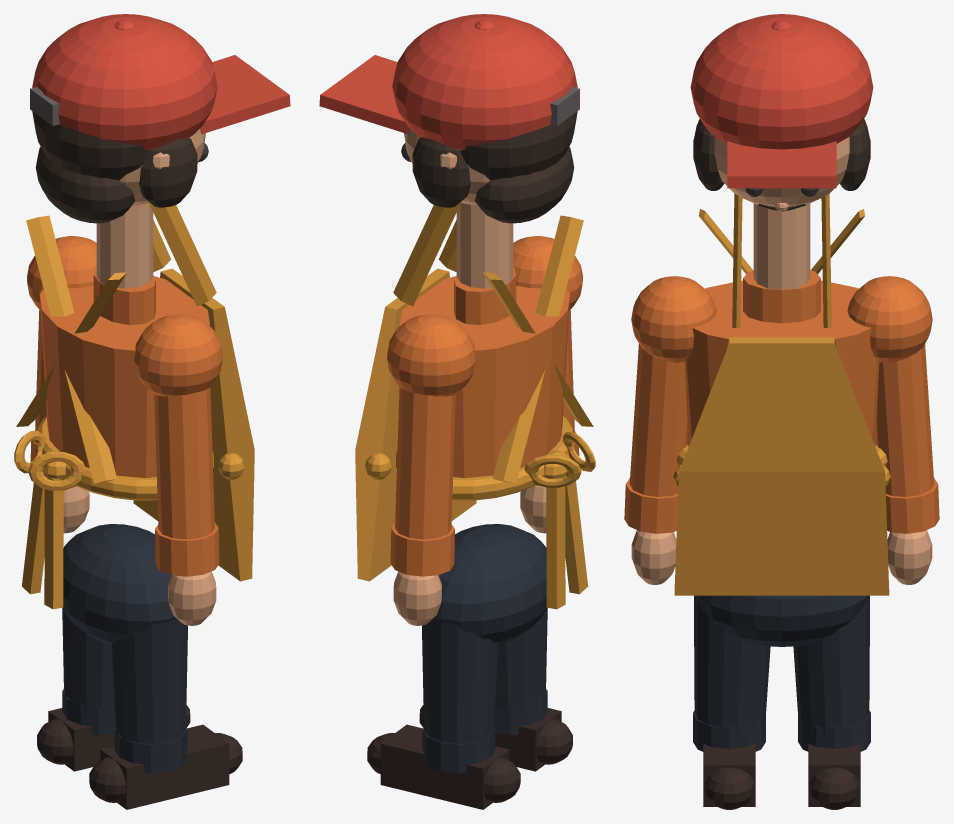
The model's file is 45-hot-dog-vendor.glb.
3 views of the same model, side by side, from view 1: azimuth 30°, elevation 25°; view 2: azimuth 150°, elevation 25°; view 3: azimuth 270°, elevation 25° (orthographic).
Visible parts, largest first — view 1: CapCrown, Torso, Hips, ApronBib, LegR, ArmR, ShoulderR, ShoeR, BackStrapA, HairBack, Neck, HairNape (+25 smaller); view 2: CapCrown, Torso, Hips, ApronBib, LegL, ArmL, ShoulderL, ShoeL, BackStrapB, HairBack, Neck, HairNape (+25 smaller); view 3: ApronBib, CapCrown, Torso, LegL, LegR, ArmL, ArmR, Hips, ShoulderL, ShoulderR, CapBrim, Neck (+18 smaller).
Boxes of the visible parts, x1,y1,x2,y2 form: CapCrown: (32, 14, 217, 150); Torso: (39, 276, 209, 478); Hips: (62, 524, 177, 645); ApronBib: (133, 268, 254, 581); LegR: (111, 619, 187, 744); ArmR: (154, 387, 214, 539); ShoulderR: (134, 314, 222, 396); ShoeR: (100, 724, 229, 809); BackStrapA: (26, 215, 117, 483); HairBack: (32, 111, 149, 180); Neck: (96, 202, 153, 288); HairNape: (35, 147, 135, 223); CapCrown: (392, 14, 577, 150); Torso: (400, 276, 570, 478); Hips: (432, 524, 547, 645); ApronBib: (355, 268, 476, 581); LegL: (422, 619, 498, 744); ArmL: (395, 387, 455, 539); ShoulderL: (387, 314, 475, 396); ShoeL: (380, 724, 509, 809); BackStrapB: (492, 215, 583, 483); HairBack: (460, 111, 577, 180); Neck: (456, 202, 513, 288); HairNape: (474, 147, 574, 223); ApronBib: (674, 337, 889, 595); CapCrown: (690, 14, 873, 149); Torso: (684, 280, 879, 446); LegL: (793, 595, 869, 740); LegR: (694, 595, 770, 740); ArmL: (876, 344, 934, 496); ArmR: (629, 344, 687, 496); Hips: (696, 595, 867, 646); ShoulderL: (847, 276, 932, 362); ShoulderR: (631, 276, 716, 362); CapBrim: (727, 141, 836, 188); Neck: (753, 203, 810, 289).
Size of the model in its own units: 0.6118 by 1.82 by 0.6899.
